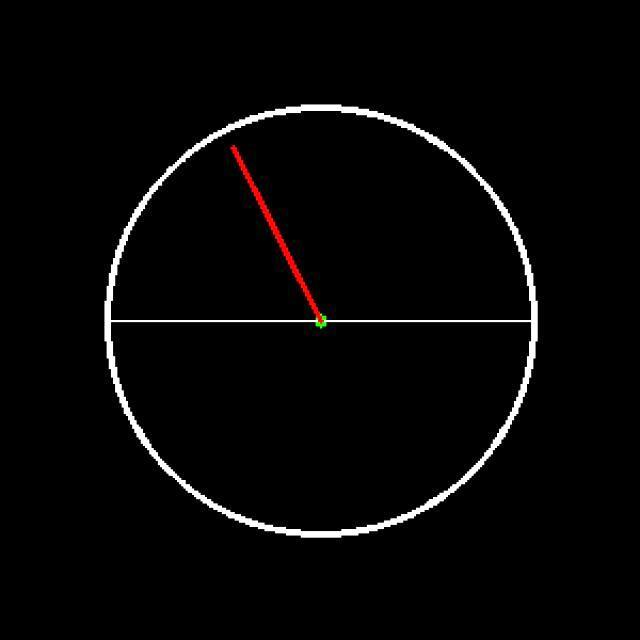Needle_Tip: (223, 123, 262, 205)
Needle_base: (306, 294, 341, 348)
